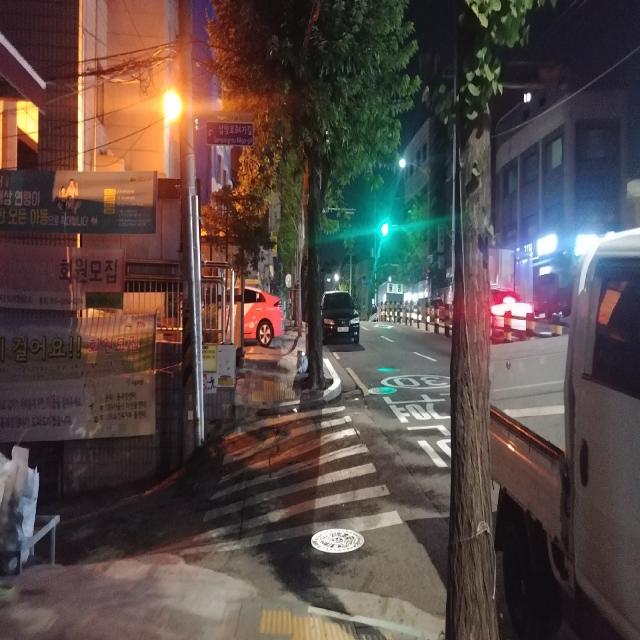횡단보도: (179, 404, 404, 556)
